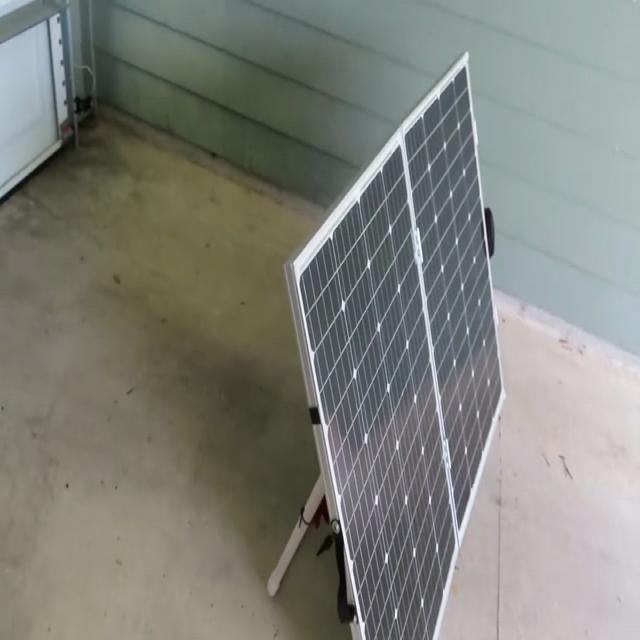Normal Solar Panel: (287, 54, 505, 640)
